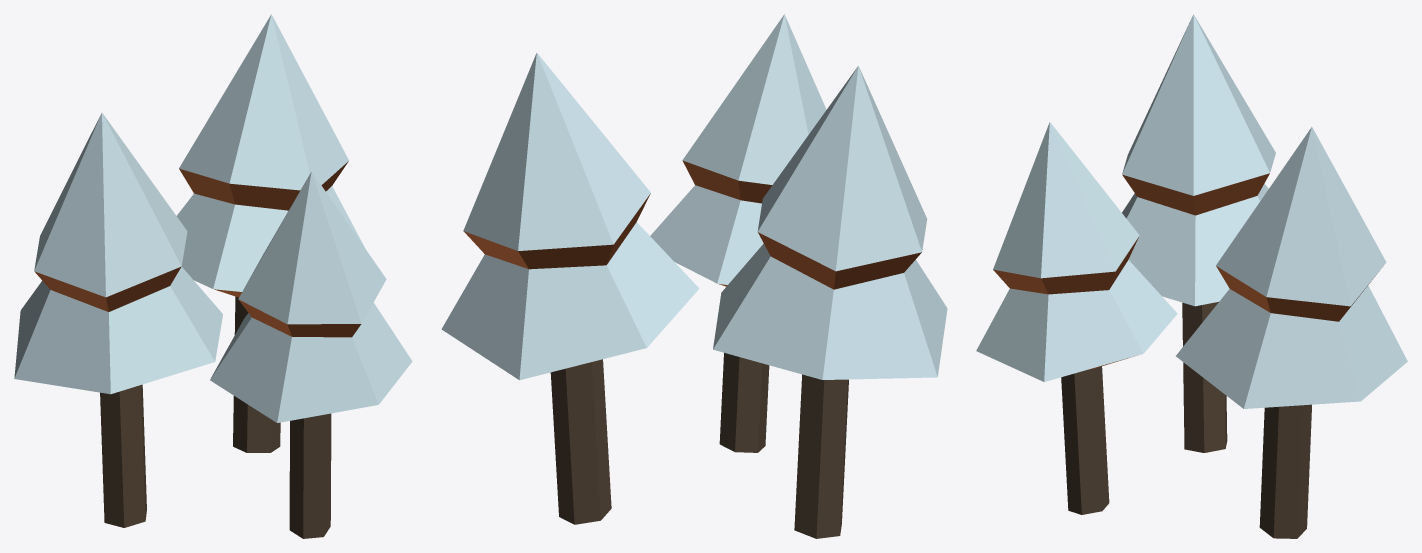
The model's file is SM_Env_Generic_Tree_03_Snow.fbx.
3 renders of one model, left to right at view 1: azimuth 30°, elevation 25°; view 2: azimuth 150°, elevation 25°; view 3: azimuth 270°, elevation 25°, orthographic. The views are drawn at different scales.
Parts seen in each view (by area): view 1: SM_Env_Generic_Tree_03_Snow; view 2: SM_Env_Generic_Tree_03_Snow; view 3: SM_Env_Generic_Tree_03_Snow.
Part boxes in pixels (x1,y1,x2,y2): SM_Env_Generic_Tree_03_Snow: [14, 14, 412, 538]; SM_Env_Generic_Tree_03_Snow: [441, 14, 947, 538]; SM_Env_Generic_Tree_03_Snow: [976, 14, 1407, 538].
Bounding box in the file's own units: 103 × 109 × 101.
Materials: 1 (1 with a texture image).
